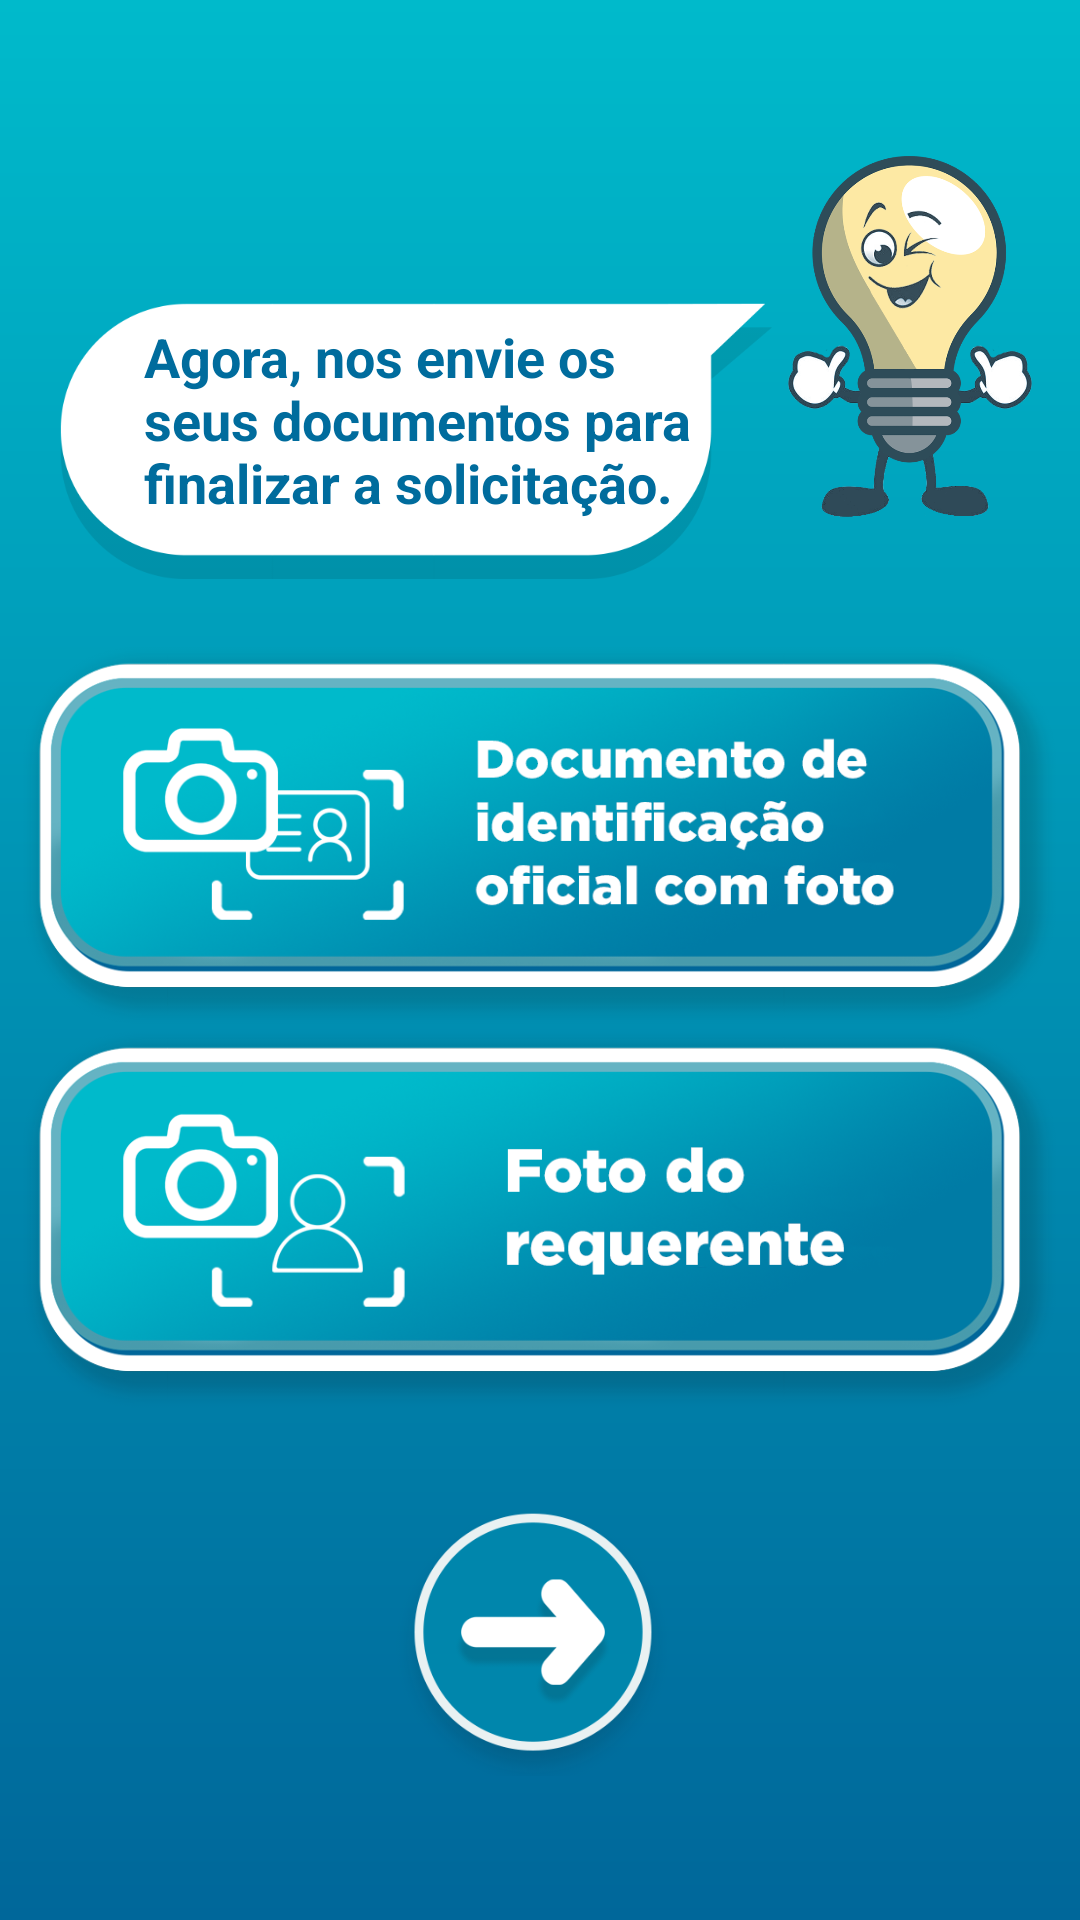

Where to tap for icons on this 1080x1920 app screen, as [x,y]:
next: [533,1632]
